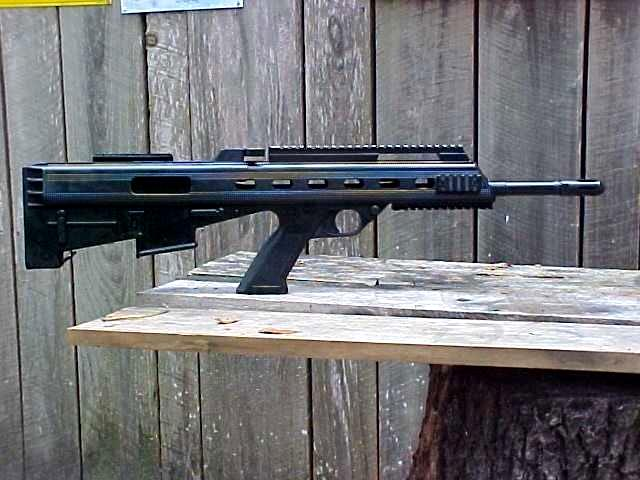rifle: (9, 132, 608, 318)
